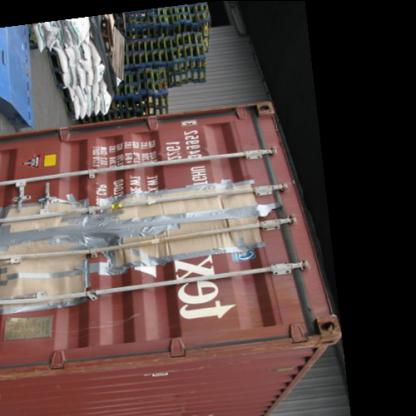Damage: (1, 162, 267, 314)
